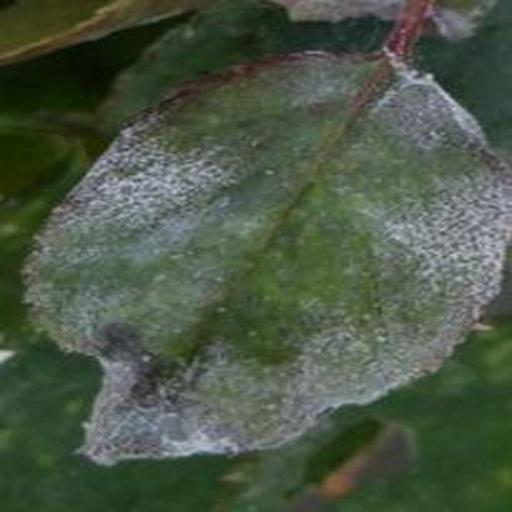powdery_mildew: (24, 14, 512, 464)
